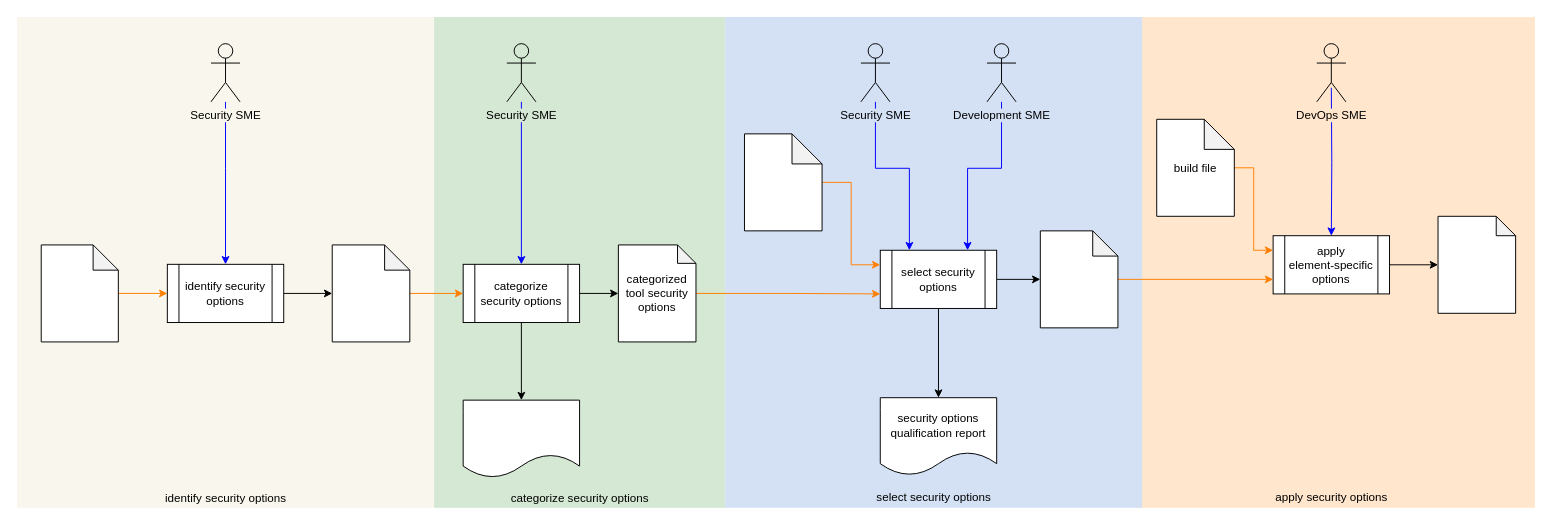
This 1551x525 diagram has some shape labels left out. The centre of each missing label's shape, as x and y in pixels:
categorized security options report: pixel 521 438
element: pixel 783 182
element-specific tool security options: pixel 1078 279
tool documentation: pixel 79 293
tool security options: pixel 370 293
updated build file: pixel 1476 264
